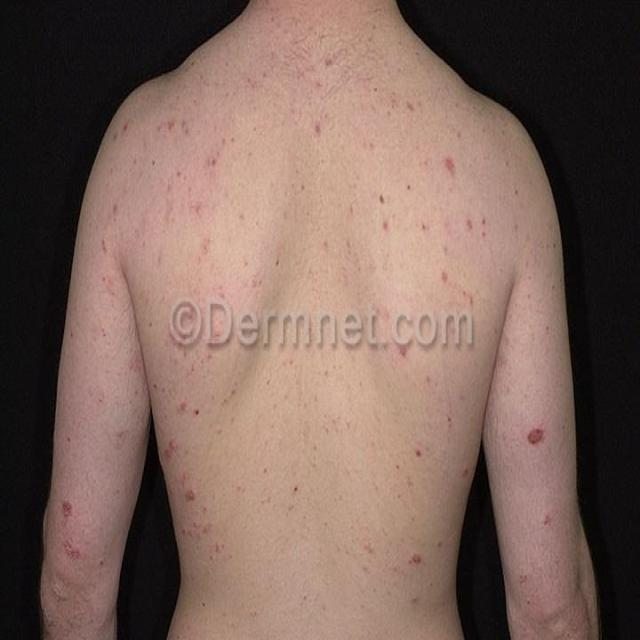Eczema: (47, 36, 553, 576)
